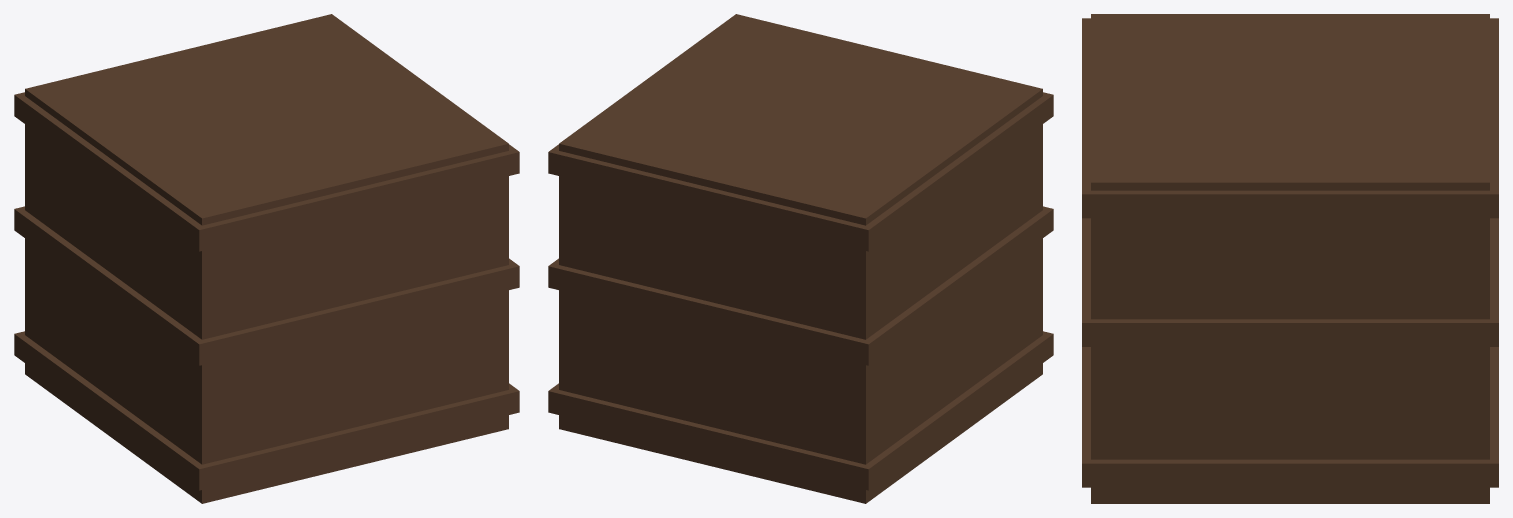
File: Prop_Crate.fbx
The picture shows the model from 3 angles, left to right: view 1: azimuth 30°, elevation 25°; view 2: azimuth 150°, elevation 25°; view 3: azimuth 270°, elevation 25°; orthographic projection. The views are drawn at different scales.
Visible parts, largest first — view 1: Prop_Crate; view 2: Prop_Crate; view 3: Prop_Crate.
Part boxes in pixels (x1,y1,x2,y2): Prop_Crate: (14,14,519,503); Prop_Crate: (548,14,1053,503); Prop_Crate: (1082,14,1498,503).
Bounding box in the file's own units: 0.94 × 0.8 × 0.94.
